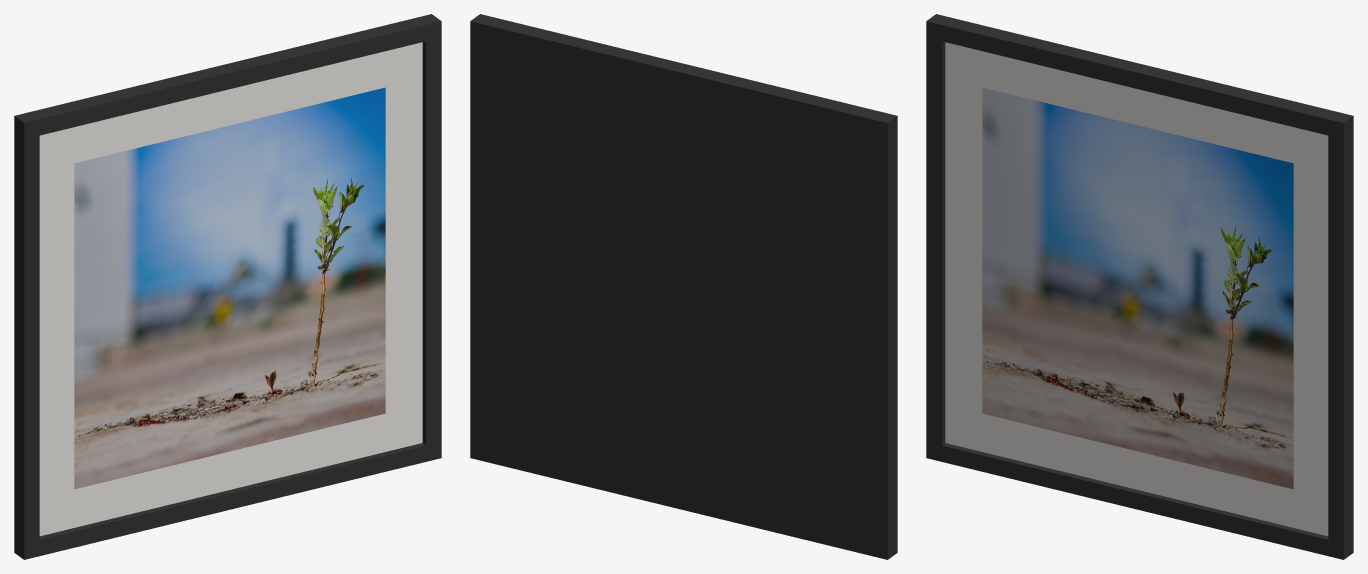
File: grodden-40.gltf
3 views of the same model, side by side, from view 1: azimuth 30°, elevation 25°; view 2: azimuth 150°, elevation 25°; view 3: azimuth 330°, elevation 25° (orthographic).
Visible parts, largest first — view 1: tavla; view 2: tavla; view 3: tavla.
Part boxes in pixels (x1,y1,x2,y2): tavla: (14, 14, 441, 559); tavla: (470, 14, 897, 559); tavla: (926, 14, 1353, 559).
Bounding box in the file's own units: 0.536 × 0.536 × 0.022.
Materials: 3 (1 with a texture image).
